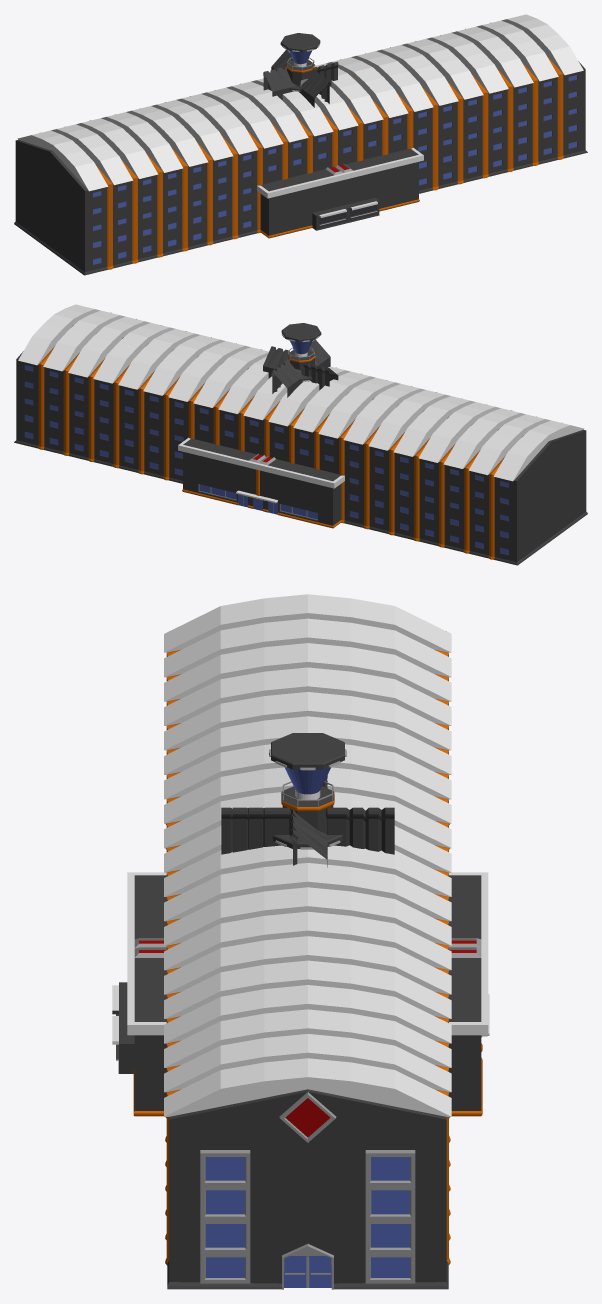
The model's file is prisão1.fbx.
3 views of the same model, one above another, from view 1: azimuth 30°, elevation 25°; view 2: azimuth 150°, elevation 25°; view 3: azimuth 270°, elevation 25° (orthographic). The views are drawn at different scales.
Parts seen in each view (by area): view 1: Cúbicos, Cozinha, TorreVigiaAlta, ParedeCurvada1, ParedeLonga, ParedeCurvada2; view 2: Cúbicos, Cozinha, TorreVigiaAlta, ParedeLonga, ParedeCurvada1, ParedeCurvada2; view 3: Cúbicos, Cozinha, TorreVigiaAlta, ParedeLonga, ParedeCurvada1, ParedeCurvada2.
Part boxes in pixels (x1,y1,x2,y2): Cúbicos: (14, 14, 587, 275); Cozinha: (257, 147, 423, 238); TorreVigiaAlta: (280, 33, 320, 85); ParedeCurvada1: (263, 66, 326, 104); ParedeLonga: (271, 49, 330, 107); ParedeCurvada2: (298, 61, 338, 93); Cúbicos: (14, 304, 587, 565); Cozinha: (178, 437, 344, 528); TorreVigiaAlta: (281, 323, 321, 375); ParedeLonga: (271, 339, 330, 397); ParedeCurvada1: (303, 342, 338, 390); ParedeCurvada2: (263, 342, 325, 378); Cúbicos: (164, 594, 451, 1289); Cozinha: (112, 872, 489, 1116); TorreVigiaAlta: (269, 733, 346, 838); ParedeLonga: (221, 807, 394, 854); ParedeCurvada1: (232, 775, 327, 852); ParedeCurvada2: (290, 809, 327, 867).
Bounding box in the file's own units: 10094 × 2819 × 3266.
